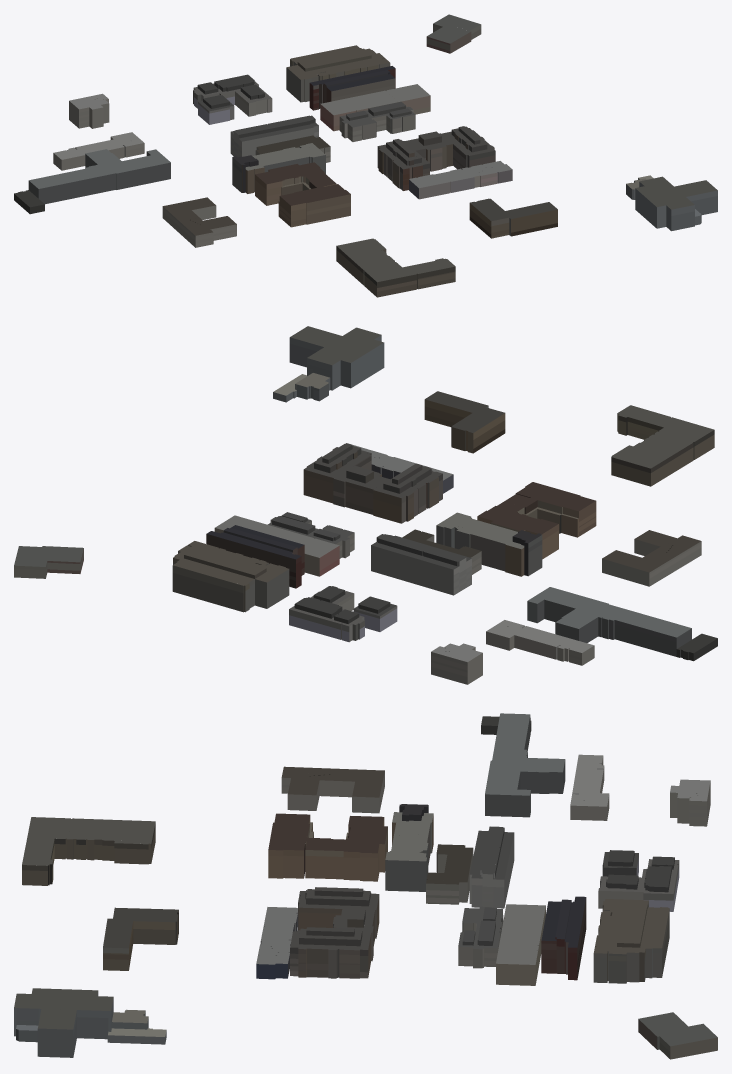
Rendered from t_-2_-4.far.glb.
3 renders of one model, top to bottom at view 1: azimuth 30°, elevation 25°; view 2: azimuth 150°, elevation 25°; view 3: azimuth 270°, elevation 25°, orthographic. The views are drawn at different scales.
Visible parts, largest first — view 1: opaque; view 2: opaque; view 3: opaque.
Part boxes in pixels (left/top/right/bottom): opaque: left=14, top=14, right=717, bottom=297; opaque: left=14, top=326, right=717, bottom=684; opaque: left=14, top=713, right=717, bottom=1059.
Size of the model in its own units: 288 by 15.95 by 256.
1 material, 1 textured.
